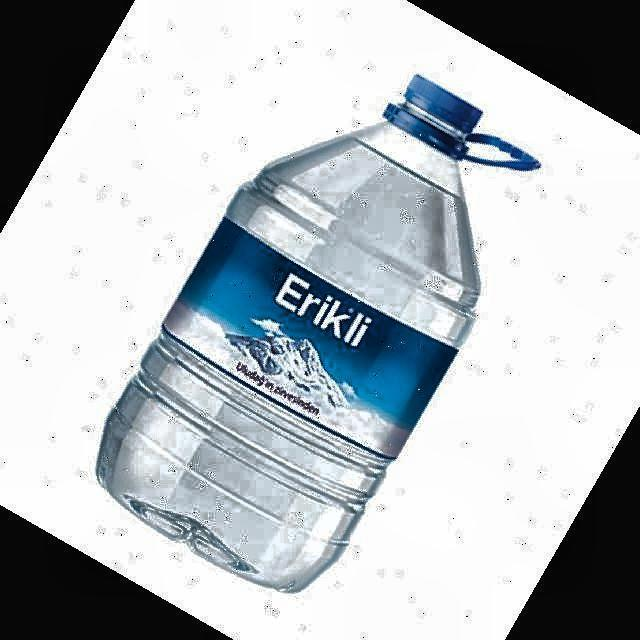plastic: (98, 78, 538, 591)
